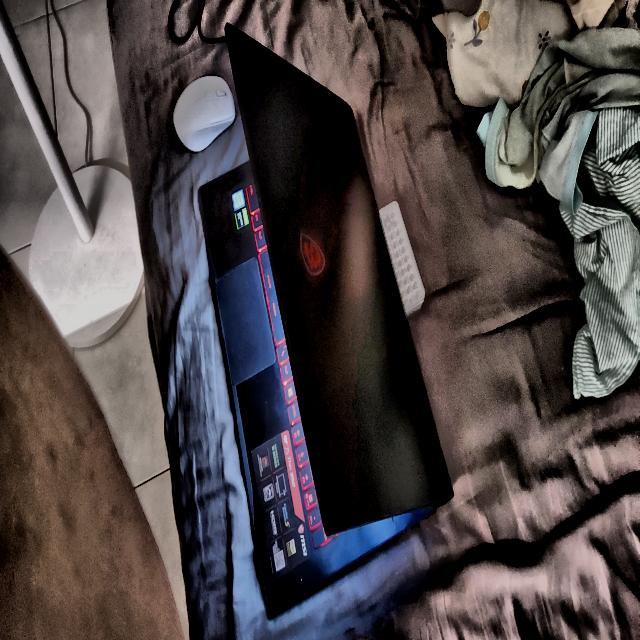Laptop: (198, 23, 453, 618)
MOUSE: (173, 76, 235, 152)
